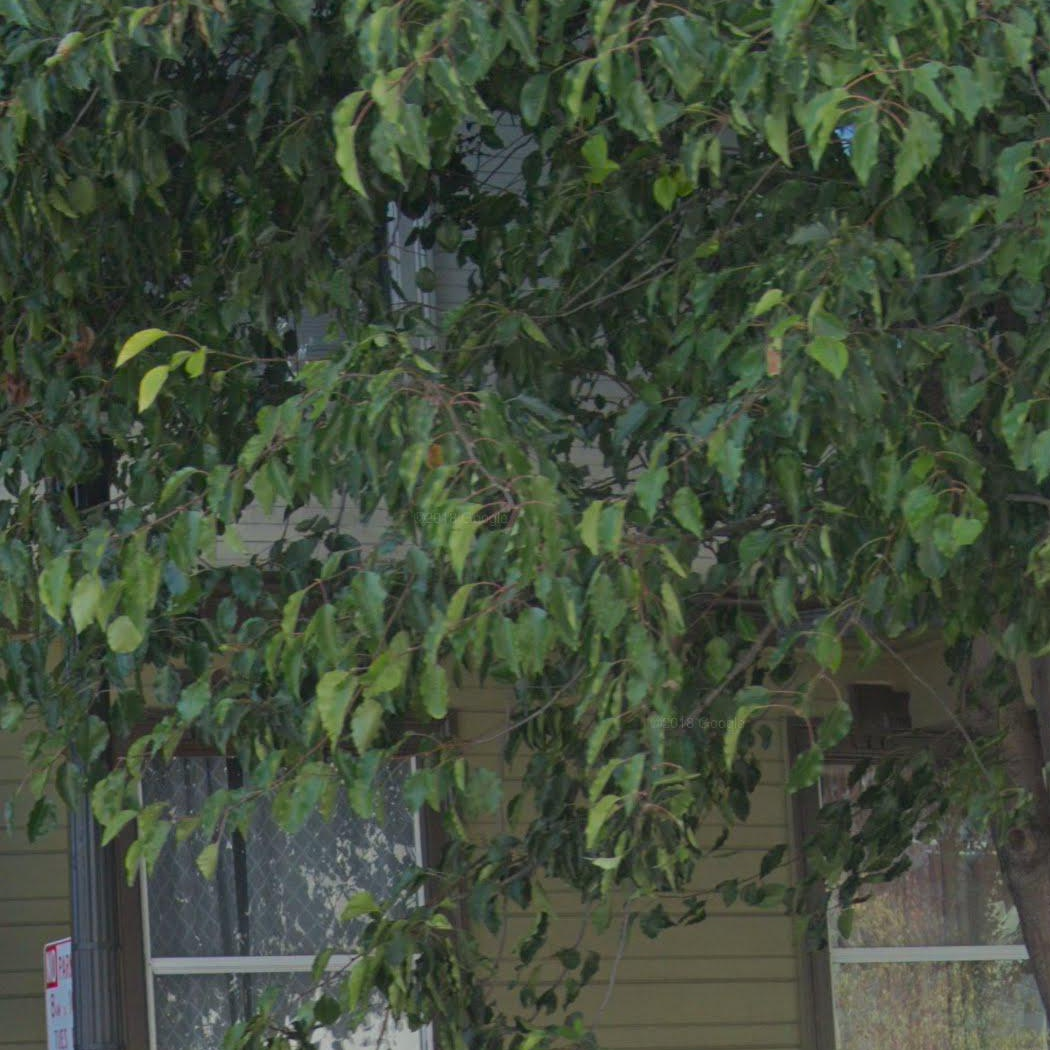No Parking: (41, 936, 76, 1048)
